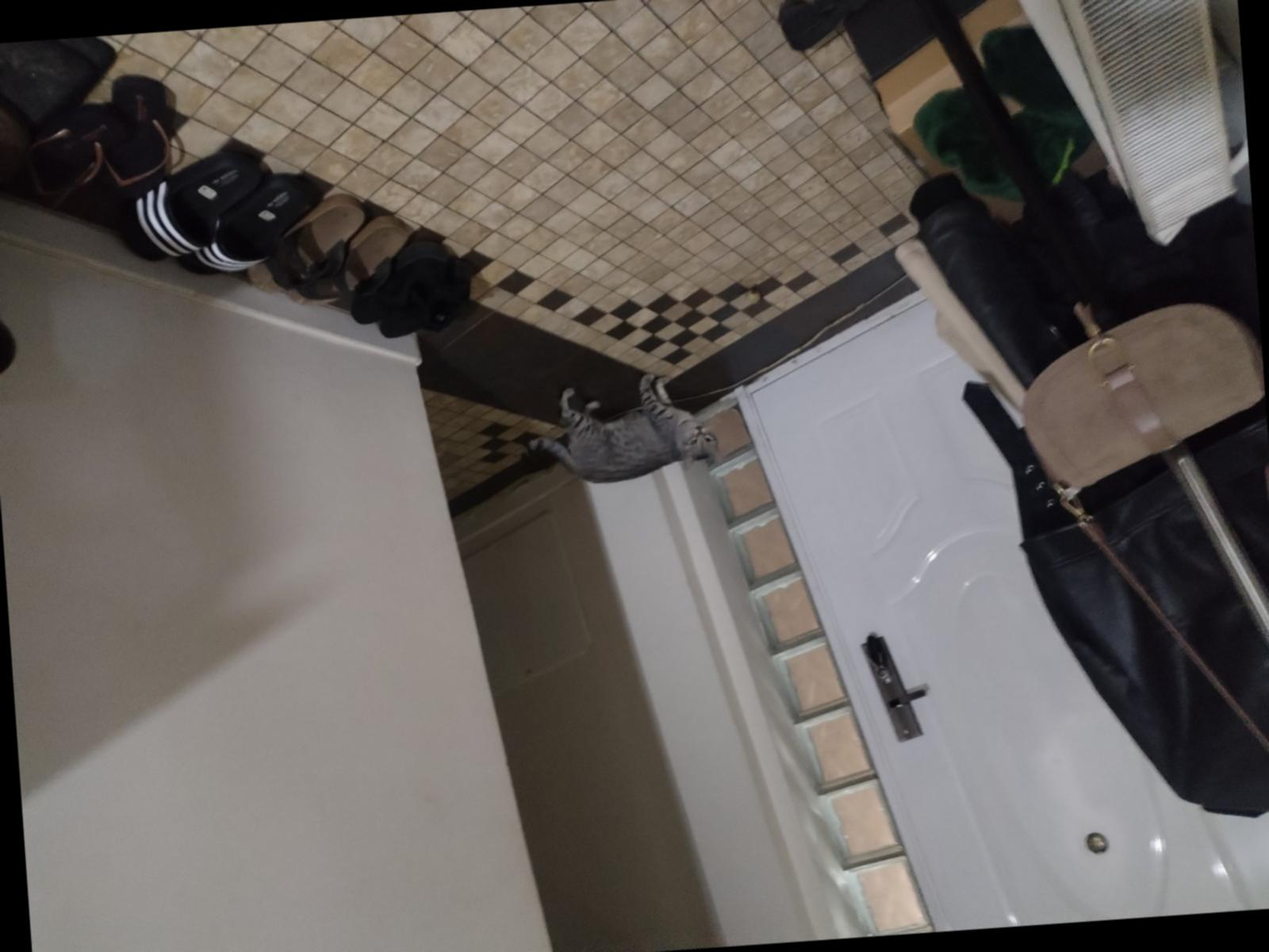macka: (515, 369, 722, 489)
